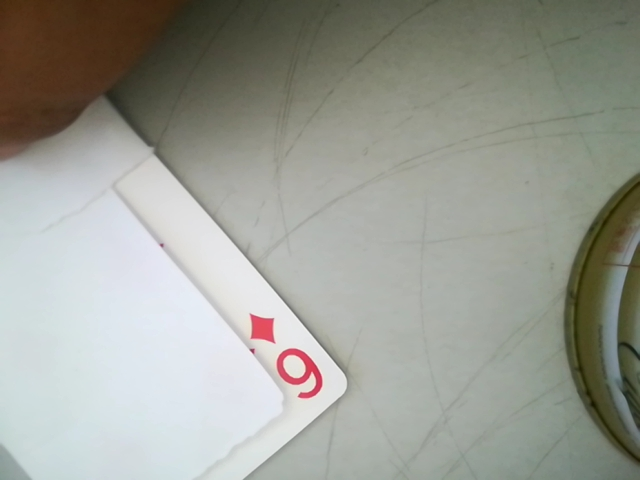fk 6: (235, 308, 330, 412)
